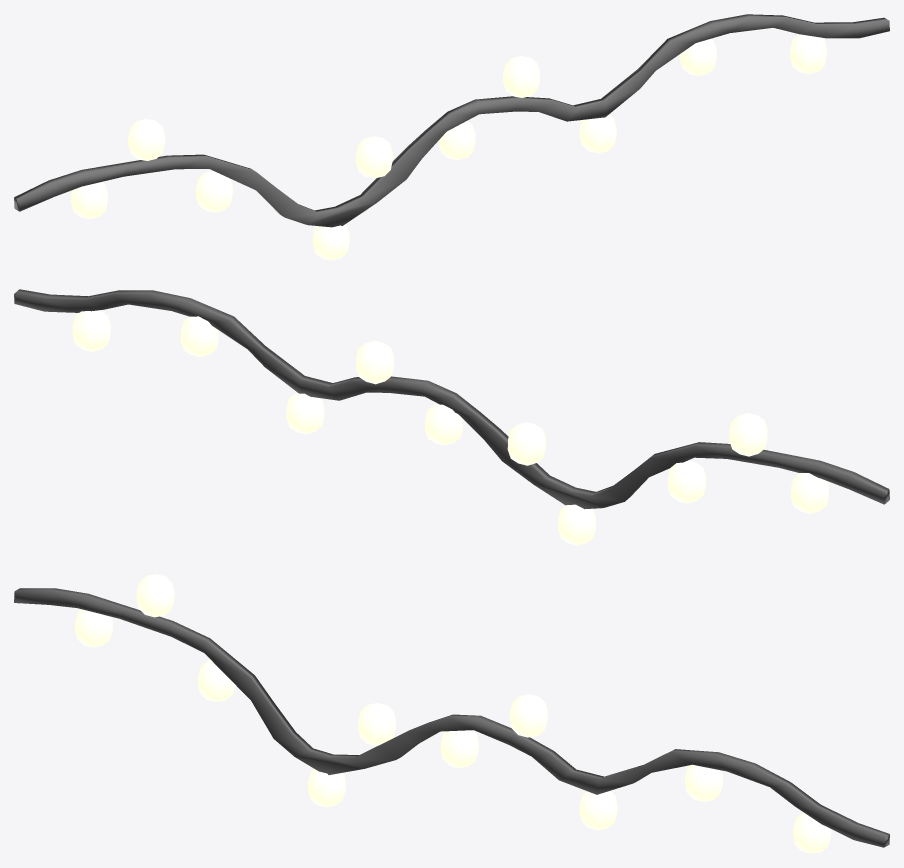
The model's file is Luces habi gradne.fbx.
3 renders of one model, top to bottom at view 1: azimuth 30°, elevation 25°; view 2: azimuth 150°, elevation 25°; view 3: azimuth 330°, elevation 25°, orthographic. The views are drawn at different scales.
Parts seen in each view (by area): view 1: Plane.008, Sphere.002; view 2: Plane.008, Sphere.002; view 3: Plane.008, Sphere.002.
Part boxes in pixels (x1,y1,x2,y2): Plane.008: (14, 14, 889, 227); Sphere.002: (70, 34, 827, 260); Plane.008: (14, 289, 889, 509); Sphere.002: (72, 310, 828, 545); Plane.008: (14, 588, 889, 847); Sphere.002: (75, 574, 831, 853).
Bounding box in the file's own units: 1341 × 260 × 78.32.
